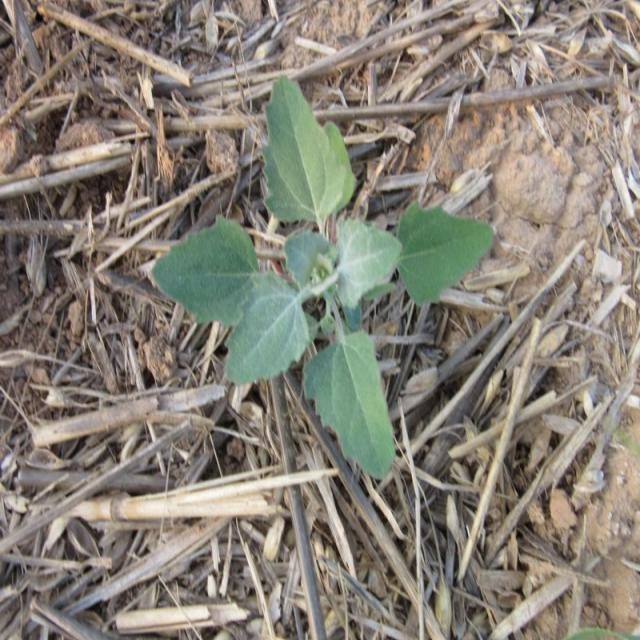ca: (149, 75, 494, 479)
